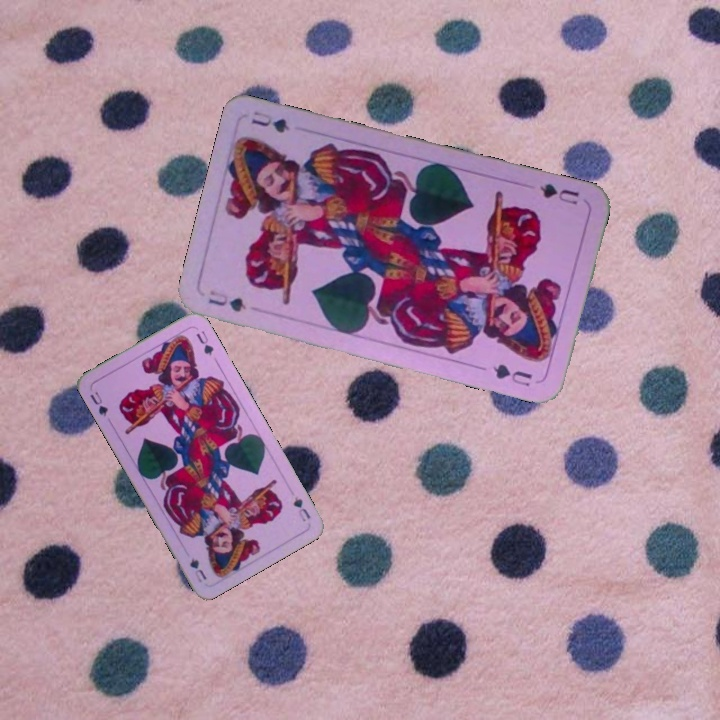GU: (204, 286, 249, 315), (535, 179, 581, 207), (86, 387, 111, 419), (289, 492, 313, 524)
